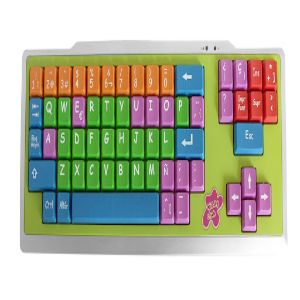keyboard: (20, 39, 288, 251)
